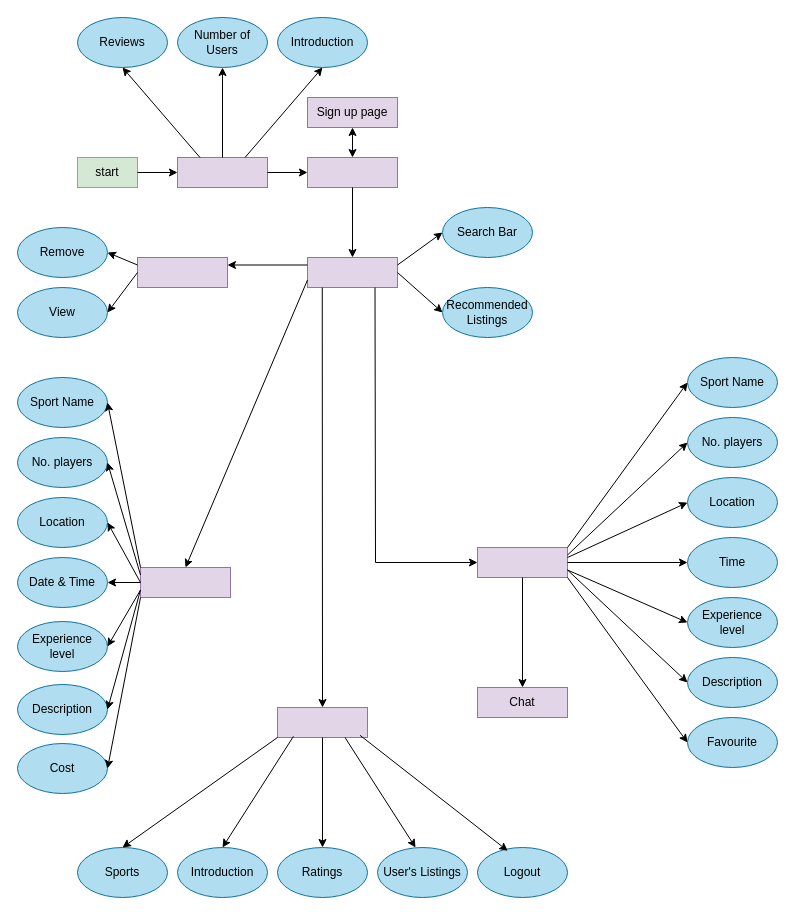
The diagram is 795 pixels wide and 915 high, and some of its shapes have lost their labels. Here are the shapes that lost their labels. From the top down, the box of each, then its label:
(176, 156, 268, 188): Landing Page
(306, 156, 398, 188): Login Page
(136, 256, 228, 288): Favourites
(306, 256, 398, 288): Explore Page
(140, 566, 230, 598): Add Listing
(476, 546, 568, 578): Indiv Listing
(276, 706, 368, 738): User Profile
